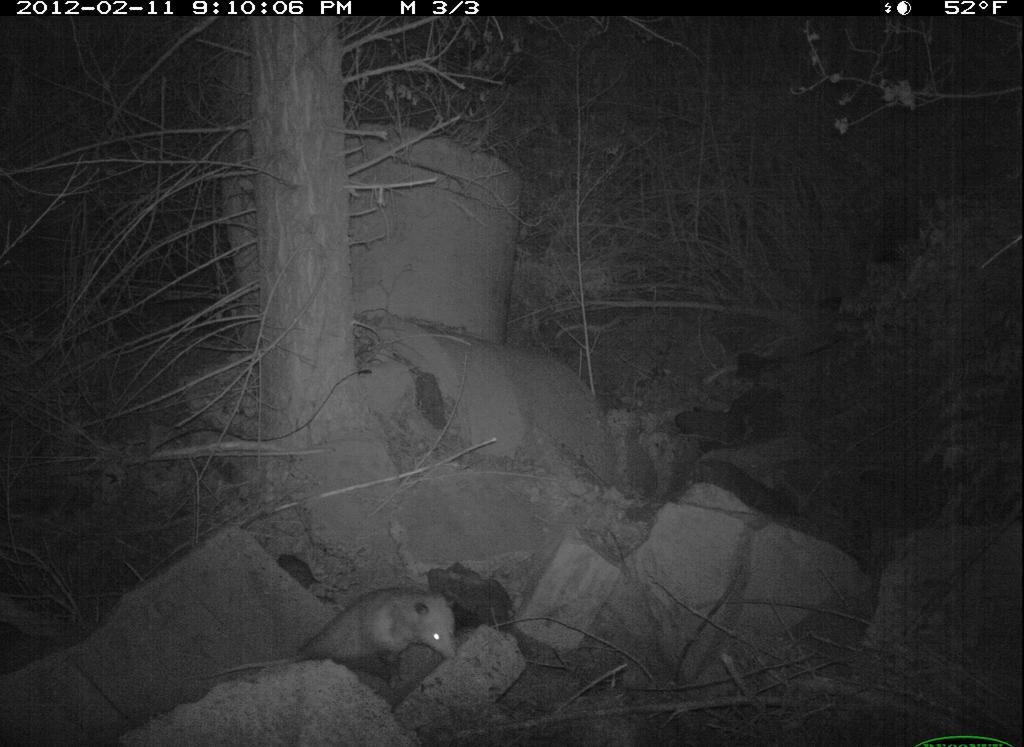opossum: (269, 574, 493, 696)
